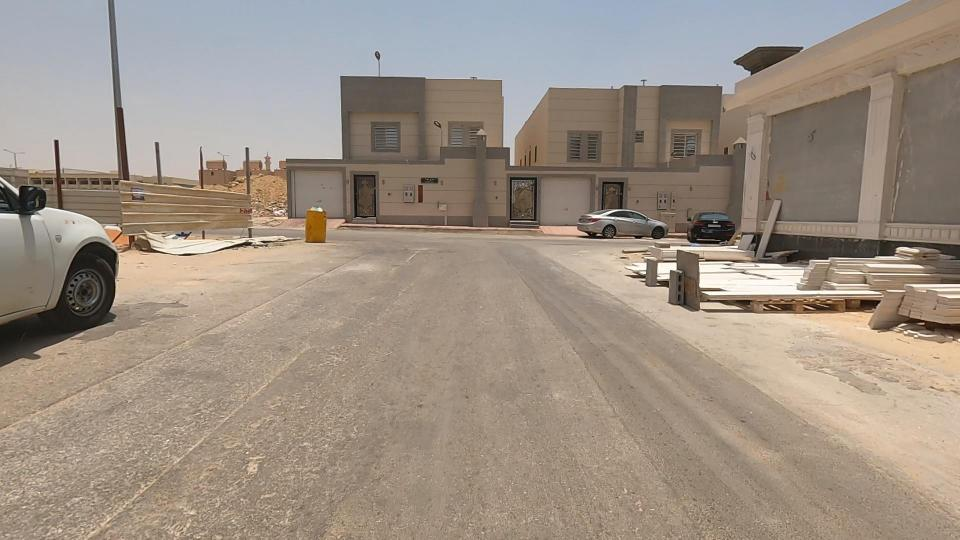GARBAGE: (196, 201, 329, 282), (104, 207, 246, 281), (288, 193, 349, 231)
